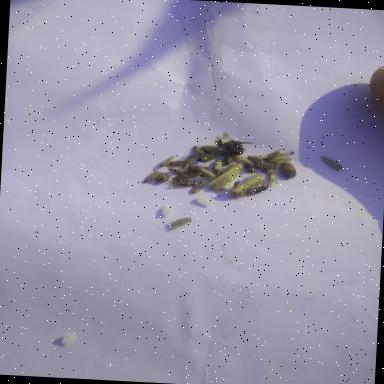abw: (207, 160, 242, 190)
pbw: (262, 146, 290, 162), (192, 144, 214, 164), (168, 214, 192, 230), (194, 164, 218, 179), (320, 154, 342, 168), (142, 168, 160, 184), (190, 178, 207, 194), (158, 153, 176, 168), (266, 168, 280, 187), (252, 161, 278, 170), (166, 158, 187, 167), (246, 153, 268, 161), (166, 166, 186, 174), (184, 152, 194, 167), (213, 158, 223, 170)
